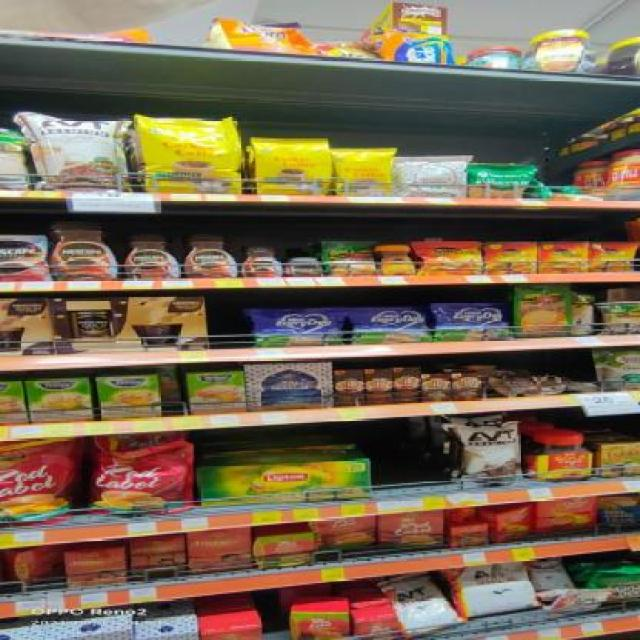Coffee: (48, 222, 118, 278), (124, 233, 182, 278), (180, 233, 238, 276), (0, 236, 50, 281), (418, 240, 478, 274), (244, 246, 282, 276), (376, 246, 416, 274), (287, 256, 319, 276)
